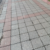zebra: (1, 4, 37, 33)
